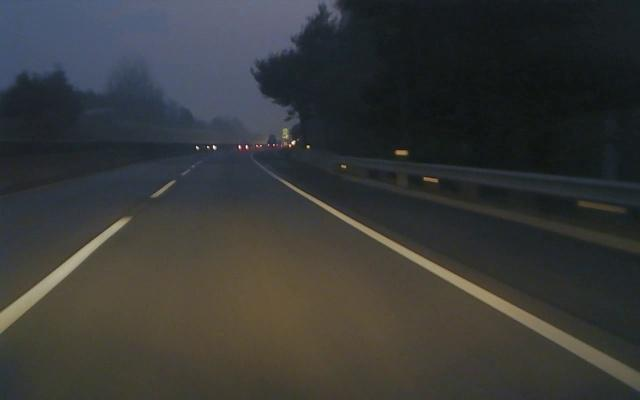lane: (287, 185, 640, 392), (0, 180, 177, 333)
